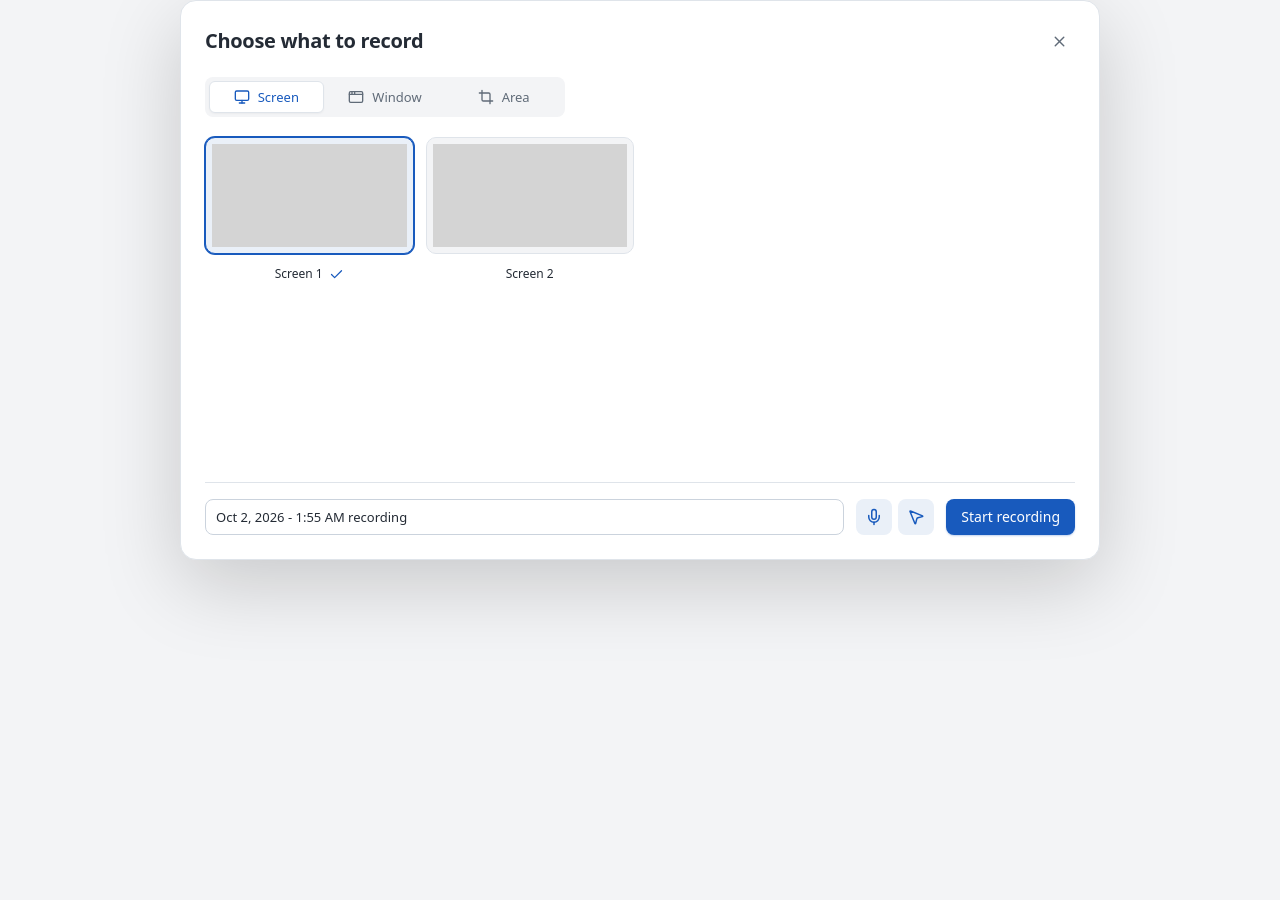
Test: SourceDialog › retains the picker and reports a failed start
Step 1. Click the button "Start recording" → (1011, 517), box [946,499,1075,535]
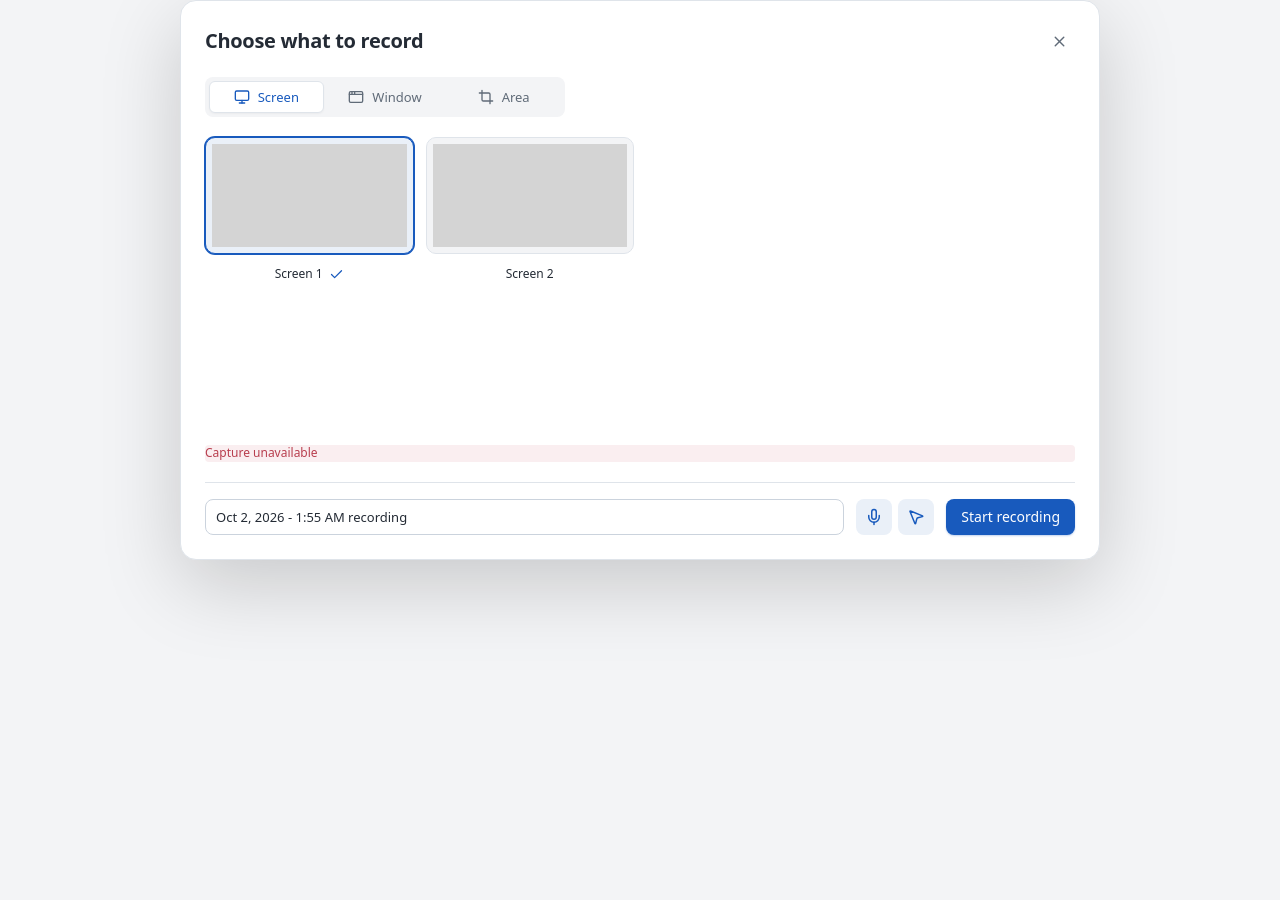
Result: the message reads "Capture unavailable" at [205,444,318,461]
